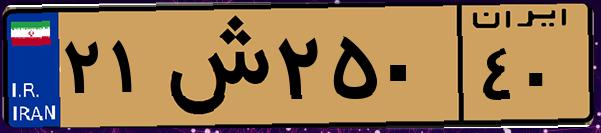0: (385, 28, 445, 110), (525, 38, 570, 115)
1: (110, 28, 158, 98)
2: (270, 28, 330, 110), (57, 26, 110, 100)
4: (475, 38, 525, 113)
5: (330, 28, 385, 110)
ش: (158, 12, 270, 120)
